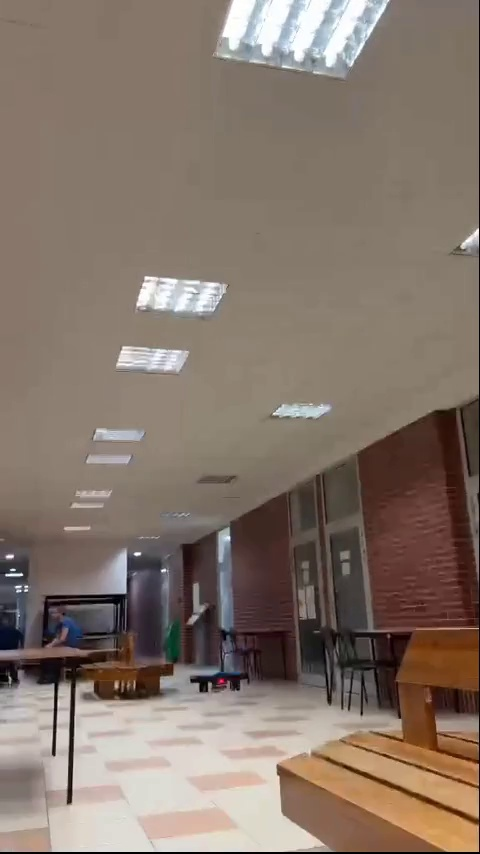drone: (185, 671, 245, 696)
no vest: (43, 600, 88, 647)
